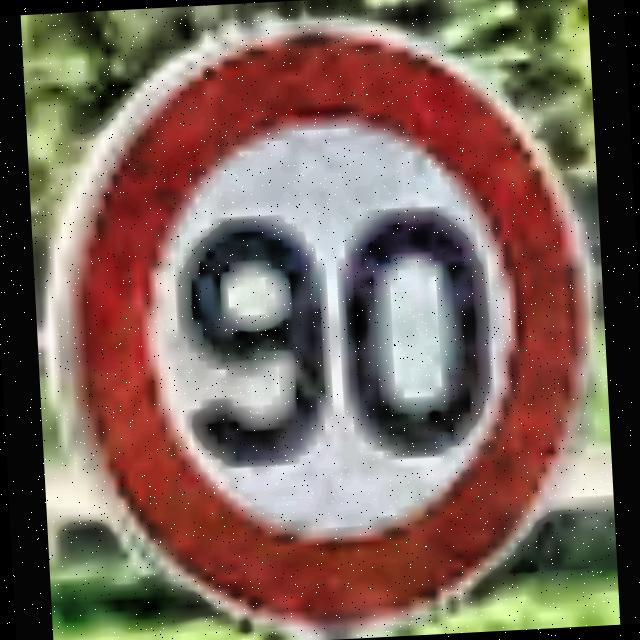speed_90: (19, 0, 609, 640)
